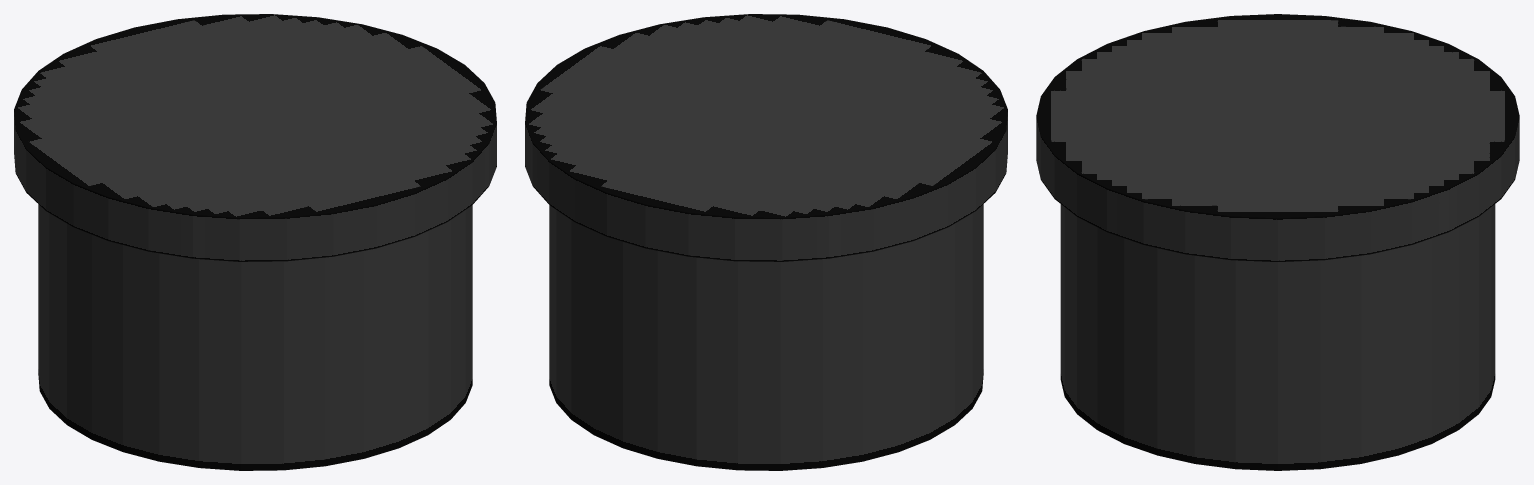
The model's file is dropper.obj.
3 views of the same model, side by side, from view 1: azimuth 30°, elevation 25°; view 2: azimuth 150°, elevation 25°; view 3: azimuth 270°, elevation 25° (orthographic).
Parts seen in each view (by area): view 1: Cylinder; view 2: Cylinder; view 3: Cylinder.
Part boxes in pixels (x1,y1,x2,y2): Cylinder: [14, 14, 496, 470]; Cylinder: [525, 14, 1007, 470]; Cylinder: [1036, 14, 1519, 470].
Size of the model in its own units: 2 by 1.2 by 2.
